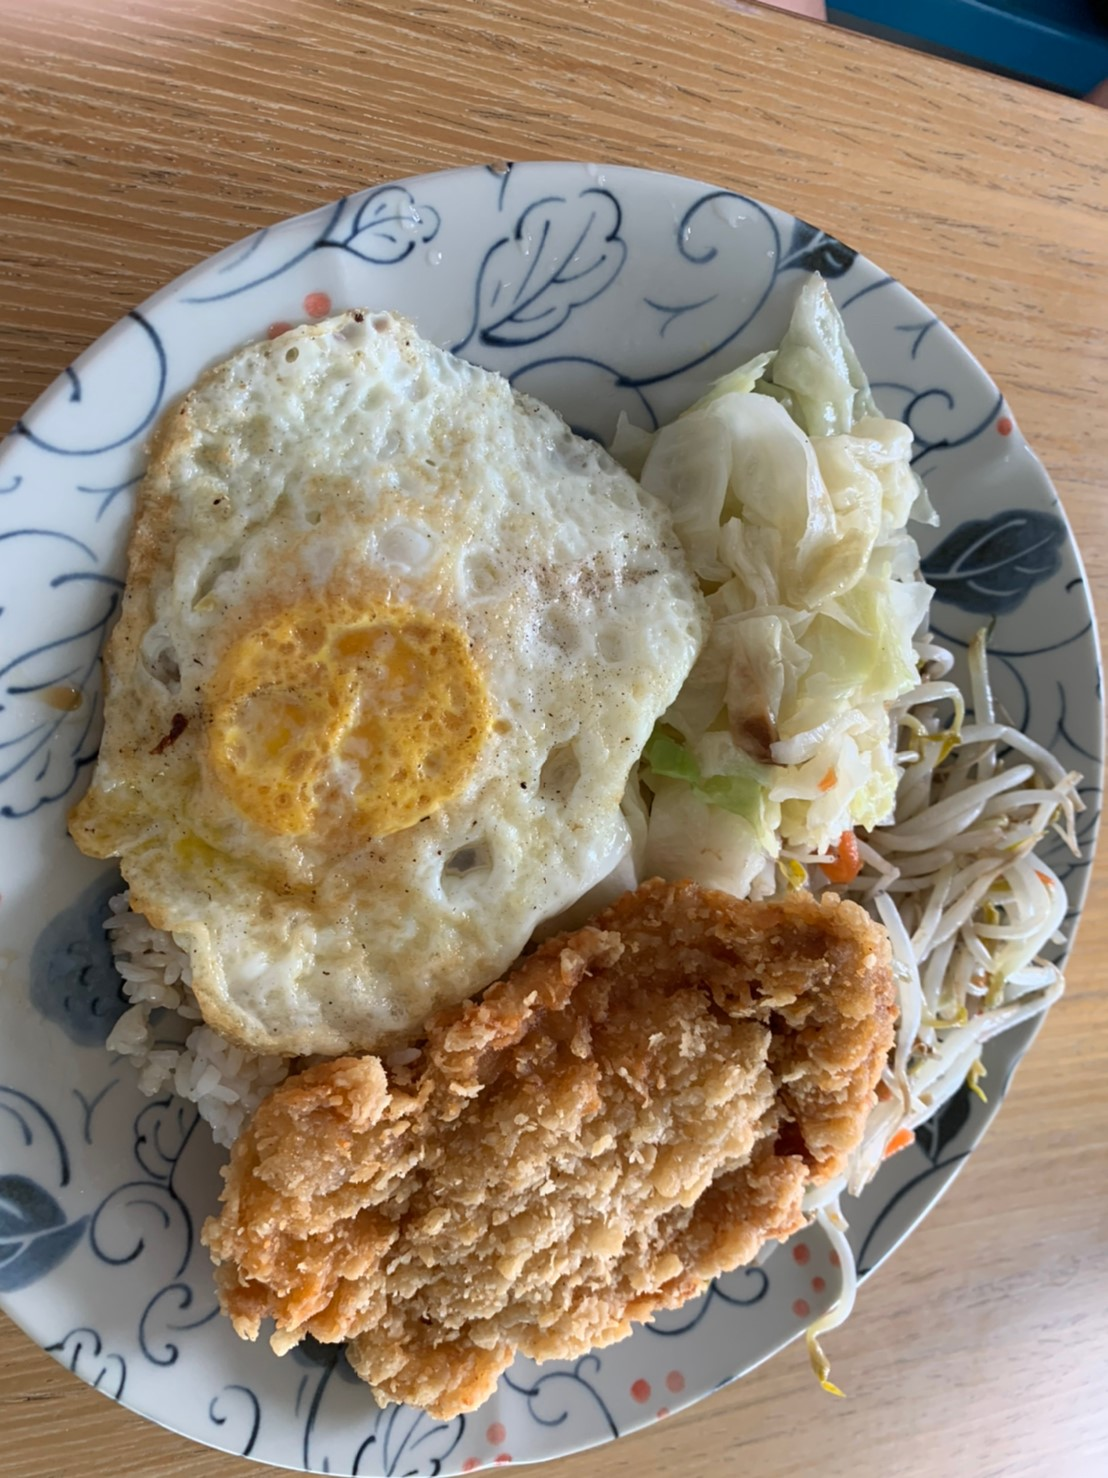chinese_cabbage: (630, 293, 949, 910)
fried_chicken: (206, 901, 878, 1406)
fried_eggs: (68, 328, 713, 1039)
mung_bean_sprouts: (824, 621, 1088, 1154)
